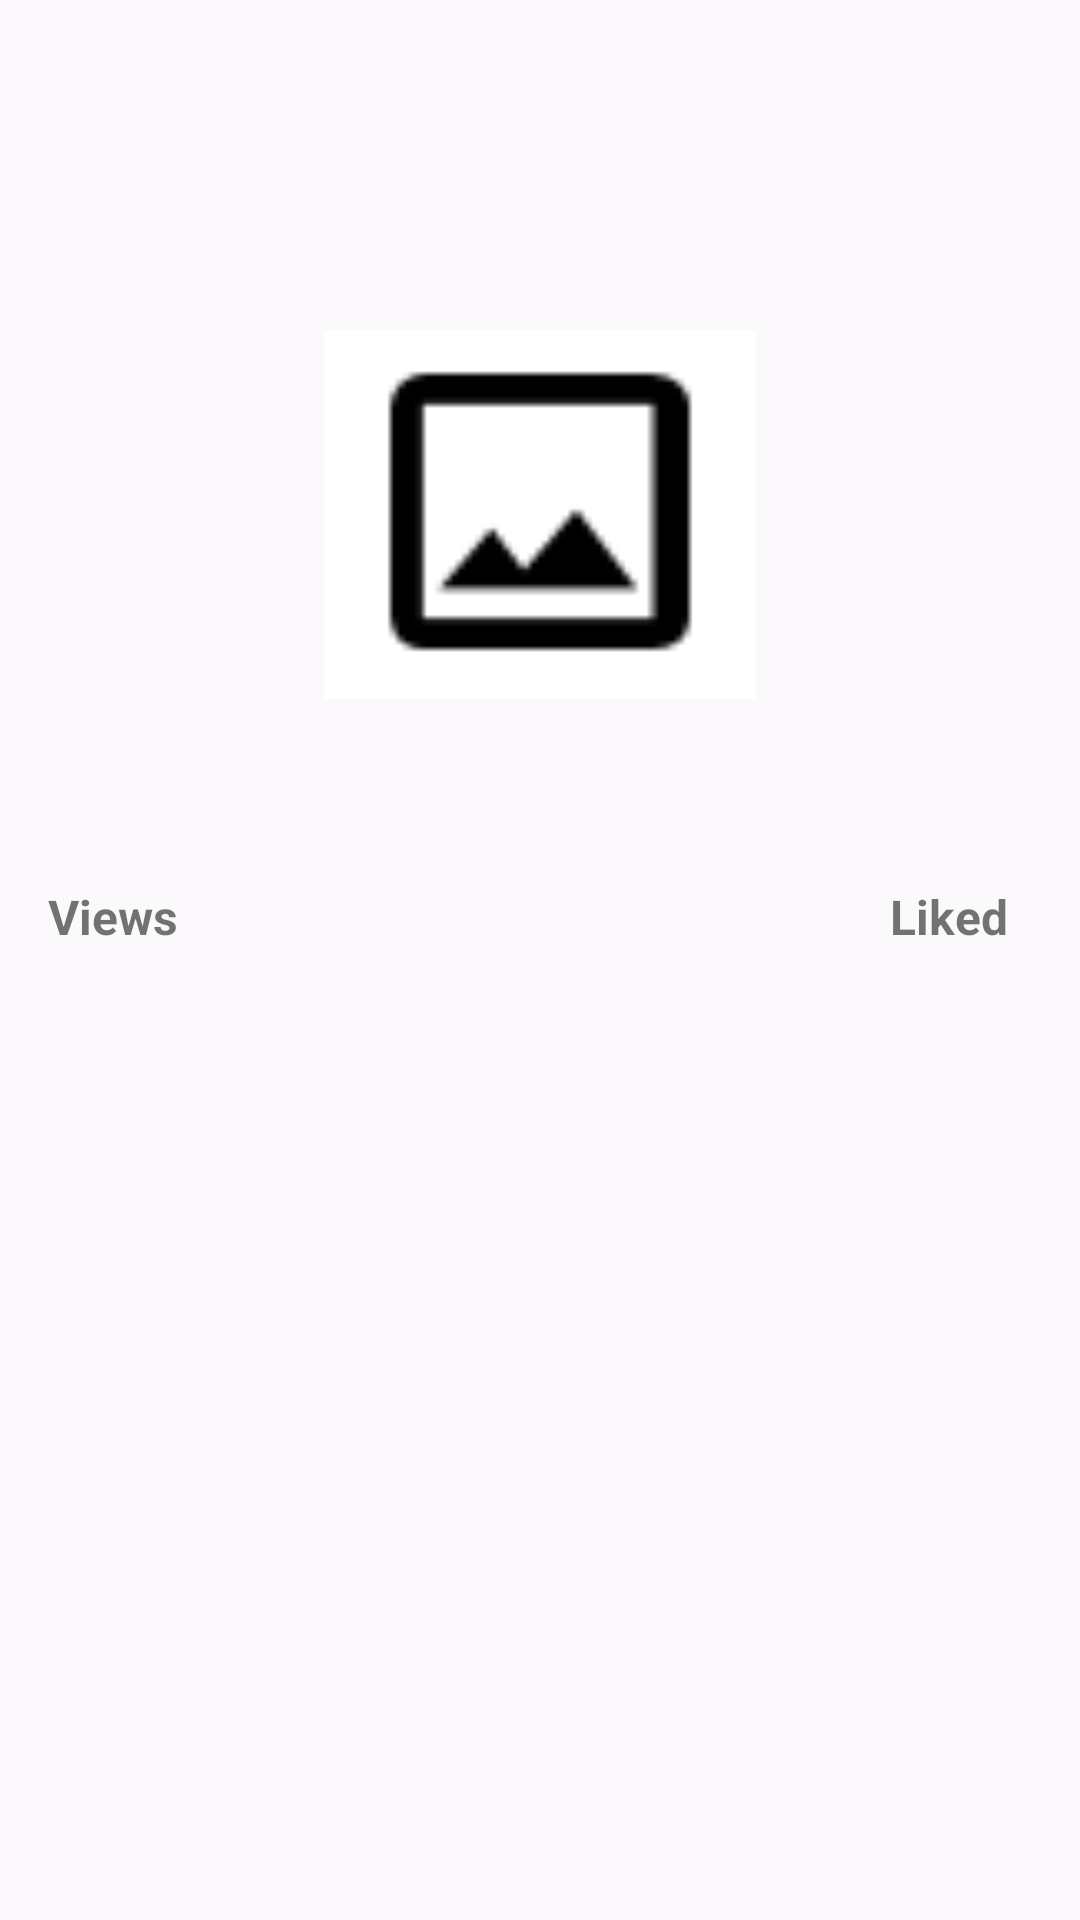

Locate icon controls on the screen. Image size 1080x1920, boxes as (x1,y1,x2,y2).
Imagem Posts: (388,371,692,651)
